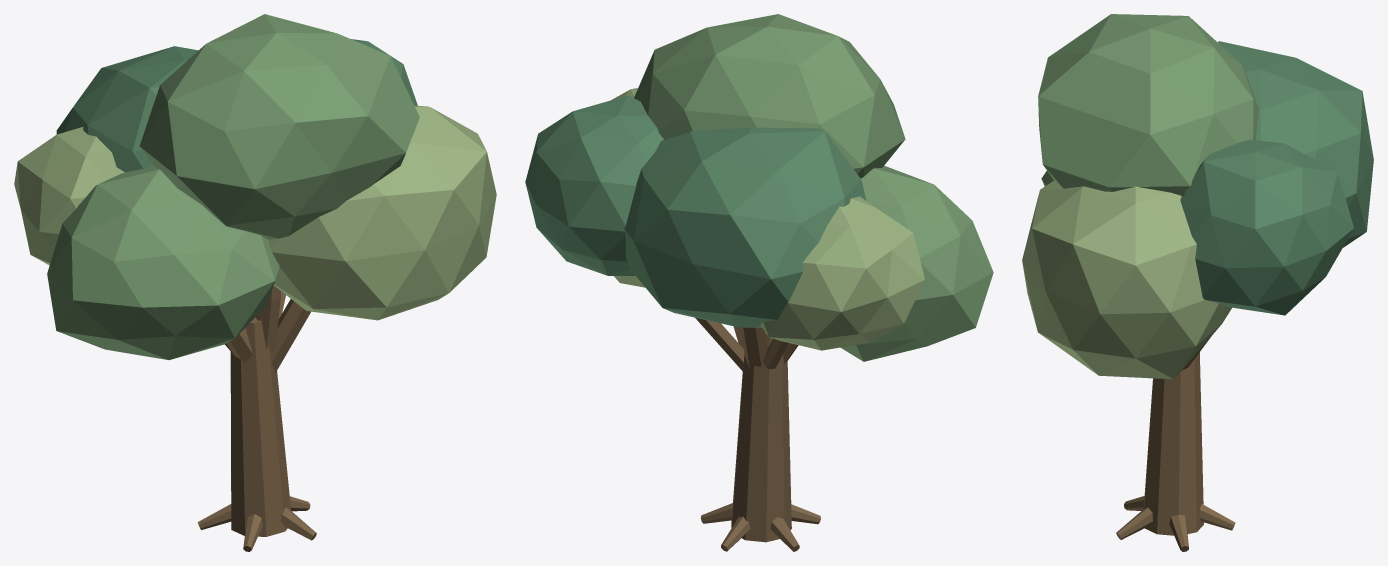
File: tree_broadleaf.glb
3 renders of one model, left to right at view 1: azimuth 30°, elevation 25°; view 2: azimuth 150°, elevation 25°; view 3: azimuth 270°, elevation 25°, orthographic.
Parts seen in each view (by area): view 1: tree_broadleaf; view 2: tree_broadleaf; view 3: tree_broadleaf.
Boxes of the visible parts, x1,y1,x2,y2 form: tree_broadleaf: (14,14,496,551); tree_broadleaf: (525,14,993,551); tree_broadleaf: (1022,14,1373,551).
Bounding box in the file's own units: 3.62 × 4.21 × 2.68.
